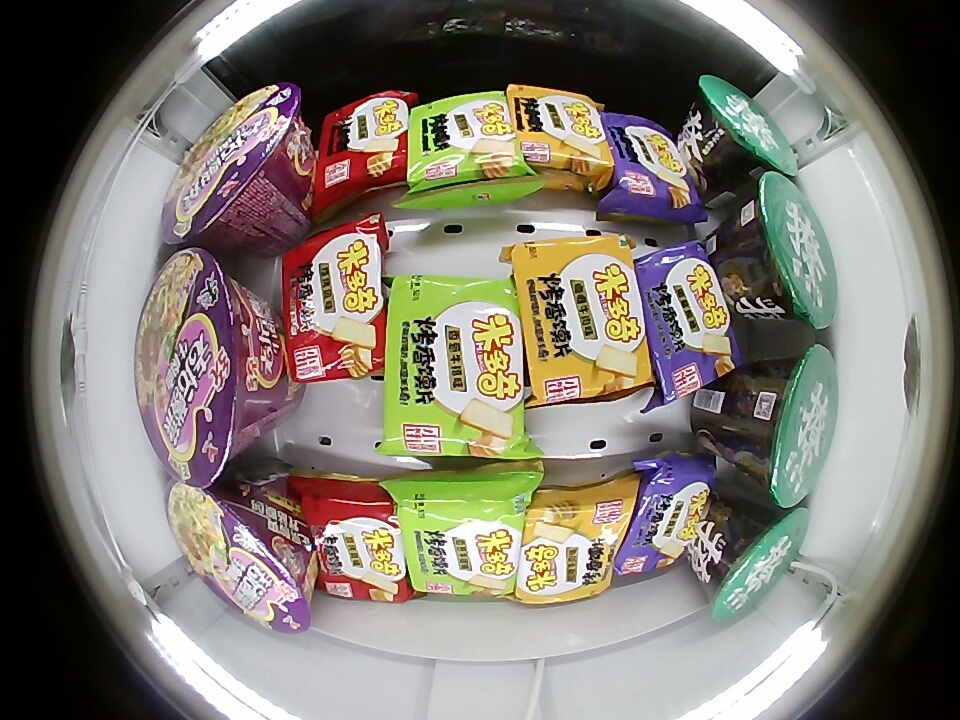kaomo_gali: (514, 234, 648, 403), (518, 477, 636, 604), (509, 85, 614, 191)
kaomo_jiaoyan: (636, 241, 740, 395), (614, 451, 719, 575), (602, 113, 704, 222)
kaomo_shaokao: (282, 214, 387, 383), (301, 476, 403, 603), (310, 91, 413, 207)
kaomo_xiangcon: (383, 275, 527, 459), (394, 463, 529, 598), (407, 92, 520, 207)
laotansuancai: (135, 248, 284, 484), (164, 84, 305, 248), (166, 481, 311, 631)
liaomian: (742, 344, 836, 509), (742, 172, 838, 330), (709, 508, 808, 619), (693, 75, 798, 178)
